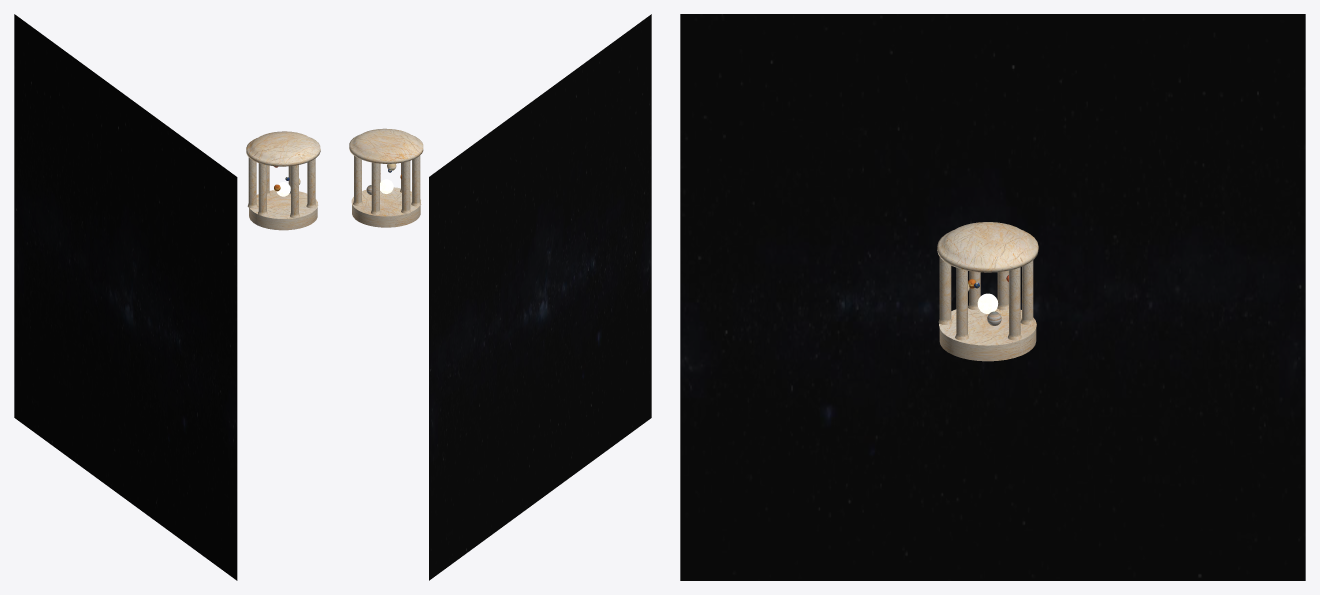
Rendered from reflection.gltf.
The picture shows the model from 3 angles, left to right: view 1: azimuth 30°, elevation 25°; view 2: azimuth 150°, elevation 25°; view 3: azimuth 270°, elevation 25°; orthographic projection. The views are drawn at different scales.
Parts seen in each view (by area): view 1: background, dome, Plane, Cylinder, column_0.004, column_0.005, column_0.000, column_0.003; view 2: background, dome, Plane, Cylinder, column_0.005, column_0.002, column_0.004, column_0.001; view 3: background, dome, Plane, Cylinder, column_0.001, column_0.000, column_0.003.
Boxes of the visible parts, x1,y1,x2,y2 form: background: (14,14,237,580); dome: (246,131,320,166); Plane: (250,190,318,218); Cylinder: (249,207,317,230); column_0.004: (258,163,267,215); column_0.005: (247,157,257,208); column_0.000: (306,158,316,208); column_0.003: (290,165,299,217); background: (429,14,651,580); dome: (349,128,423,163); Plane: (351,187,420,216); Cylinder: (352,204,420,227); column_0.005: (401,161,410,213); column_0.002: (371,162,380,214); column_0.004: (411,155,421,206); column_0.001: (353,156,362,205); background: (680,14,1305,580); dome: (937,222,1038,272); Plane: (939,308,1036,345); Cylinder: (939,328,1036,361); column_0.001: (1008,267,1021,340); column_0.000: (955,267,968,340); column_0.003: (938,257,952,324).
Bounding box in the file's own units: 40.29 × 82.58 × 82.58.
12 materials, 12 textured.
